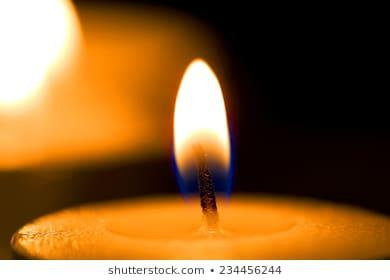fire: (0, 1, 81, 113), (169, 52, 233, 192)
